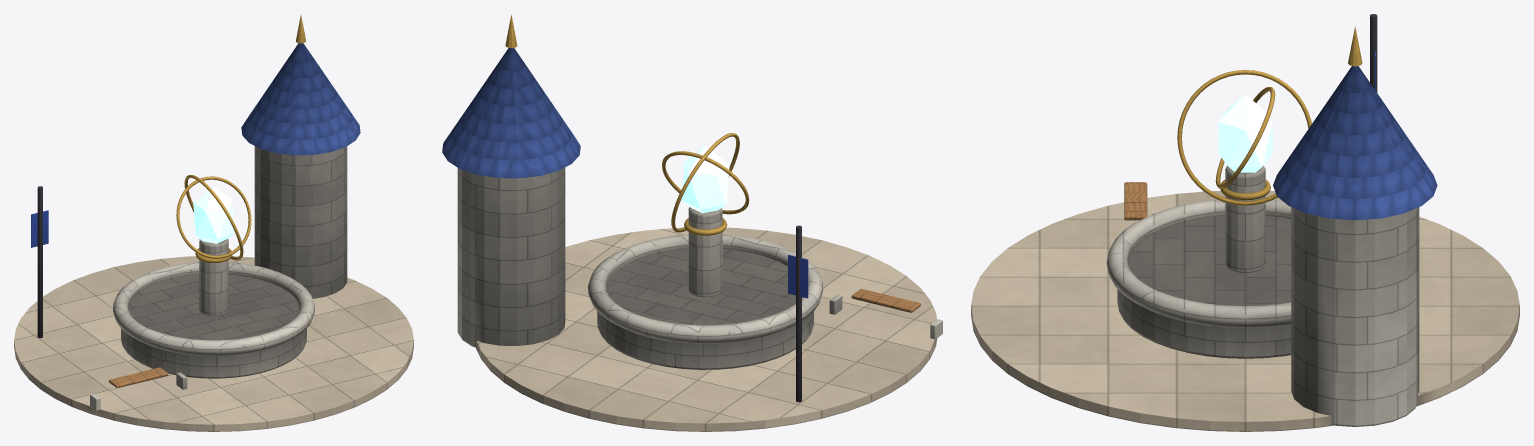
The model's file is p30_sample_hq.glb.
The picture shows the model from 3 angles, left to right: view 1: azimuth 30°, elevation 25°; view 2: azimuth 150°, elevation 25°; view 3: azimuth 270°, elevation 25°; orthographic projection. The views are drawn at different scales.
Parts seen in each view (by area): view 1: P30_paving, P30_stone, P30_roof, P30_metal, P30_crystal, P30_wood, P30_cloth; view 2: P30_stone, P30_paving, P30_roof, P30_metal, P30_crystal, P30_wood, P30_cloth; view 3: P30_paving, P30_stone, P30_roof, P30_metal, P30_crystal, P30_wood.
Boxes of the visible parts, x1,y1,x2,y2 form: P30_paving: [14, 256, 413, 431]; P30_stone: [90, 146, 347, 410]; P30_roof: [241, 43, 360, 155]; P30_metal: [37, 15, 305, 338]; P30_crystal: [193, 186, 234, 243]; P30_wood: [108, 367, 168, 387]; P30_cloth: [31, 210, 48, 247]; P30_stone: [457, 167, 942, 369]; P30_paving: [476, 227, 937, 431]; P30_roof: [442, 48, 580, 178]; P30_metal: [505, 14, 801, 402]; P30_crystal: [681, 146, 729, 213]; P30_wood: [851, 289, 920, 312]; P30_cloth: [788, 255, 808, 298]; P30_paving: [971, 190, 1519, 431]; P30_stone: [1106, 165, 1419, 426]; P30_roof: [1273, 66, 1437, 220]; P30_metal: [1177, 14, 1377, 205]; P30_crystal: [1218, 94, 1272, 172]; P30_wood: [1124, 182, 1147, 220].
Size of the model in its own units: 6.1 by 4.53 by 6.
8 materials, 7 textured.
